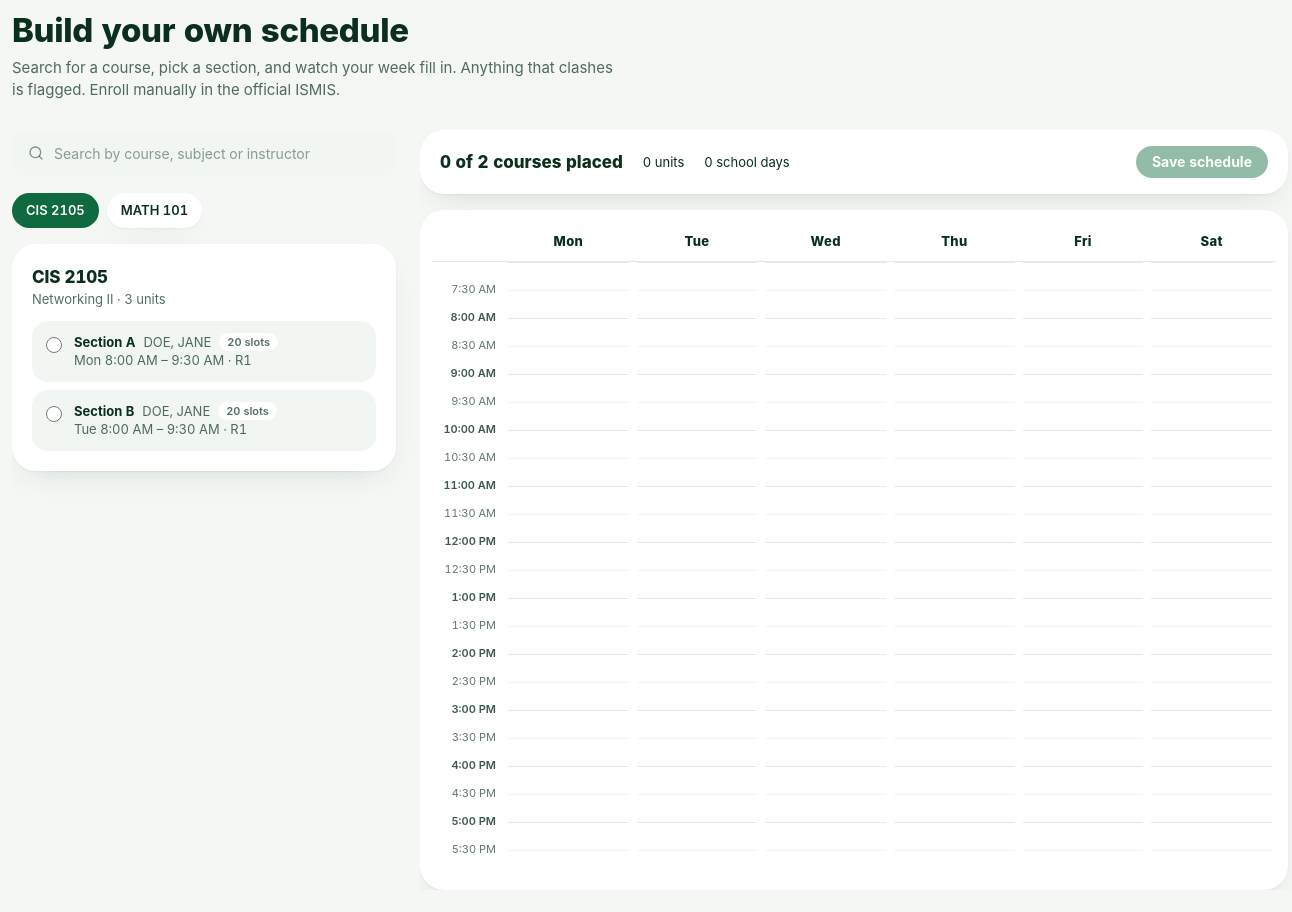
Scenario: BuildSchedulePage › fills in the summary as sections are picked
This screenshot has width=1292, height=912.
Expected: the text "0 of 2 courses placed" is shown, left=440, top=149, right=623, bottom=175
Click the radio button with aria-label "CIS 2105 section A": point(54, 345) left=46, top=337, right=62, bottom=353
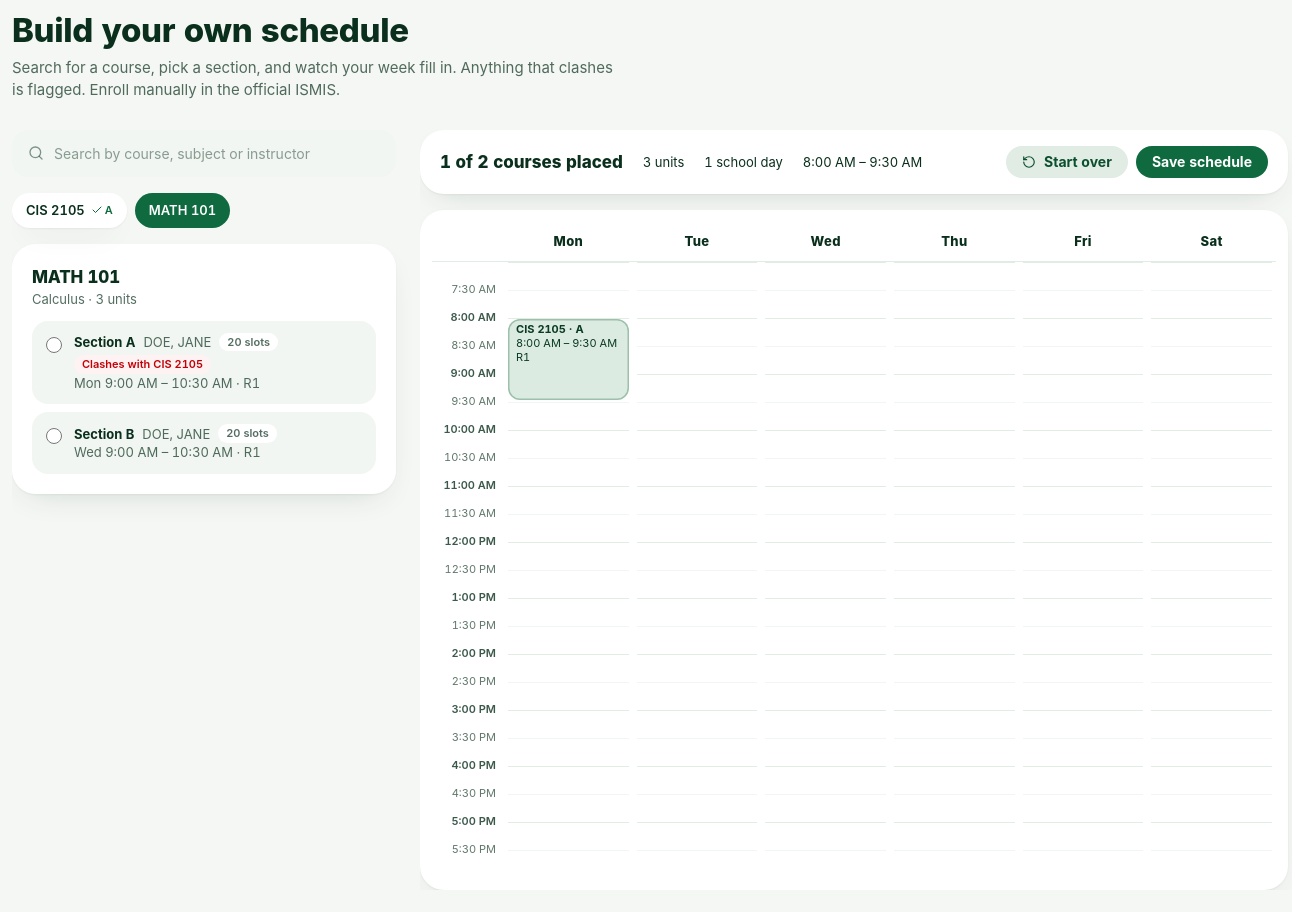
Result: the text "1 of 2 courses placed" is shown at left=440, top=149, right=623, bottom=175
Result: the text "3 units" is shown at left=643, top=153, right=684, bottom=171
